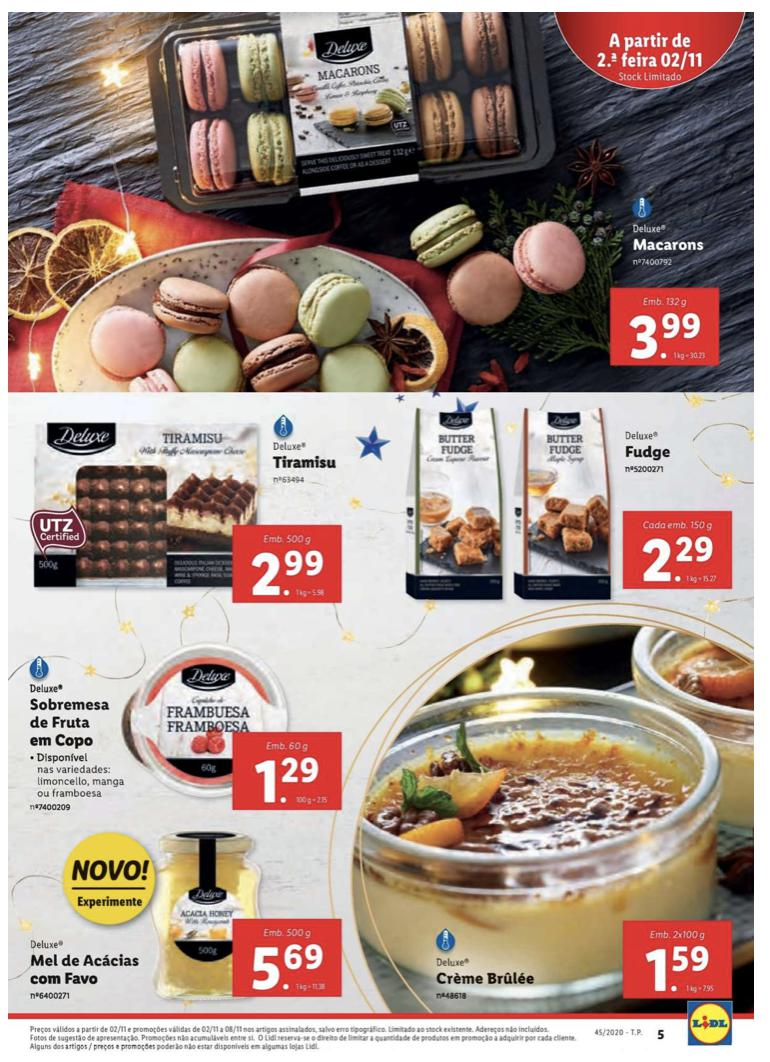name: (24, 697, 112, 749), (25, 951, 141, 989), (631, 235, 708, 257), (269, 453, 341, 473), (622, 443, 675, 462)
price: (247, 936, 328, 994), (249, 543, 331, 599), (623, 312, 711, 362), (641, 940, 714, 995), (641, 536, 720, 585), (249, 757, 322, 808)
product: (10, 19, 731, 393), (361, 656, 764, 1014), (397, 395, 753, 624), (18, 411, 353, 611), (18, 630, 360, 818), (16, 831, 349, 1005)
